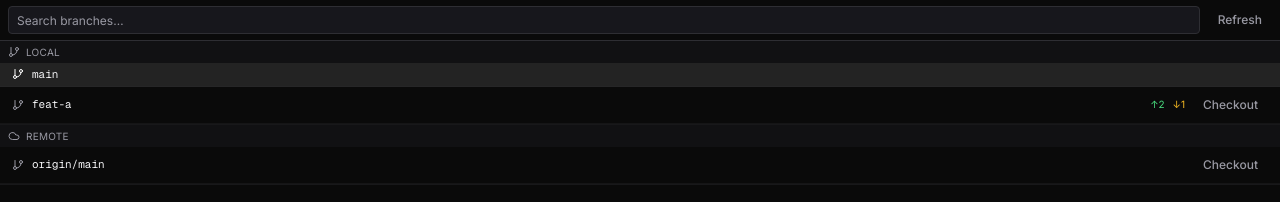
Test: BranchList › renders local + remote sections and filters
The image size is (1280, 202).
Check: the text "main" is shown, box [32,67,58,81]
Check: the number of elements with test id "branch-row" is 3, box [0,63,1279,87]; [0,87,1279,124]; [0,147,1279,184]
Type "feat" into the field with test id "branch-search".
click(604, 20); type("feat")  # box [8,6,1200,34]
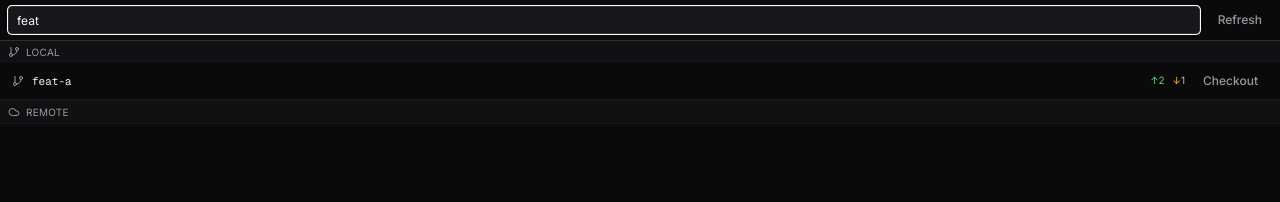
Check: the number of elements with test id "branch-row" is 1, box [0,63,1279,100]
